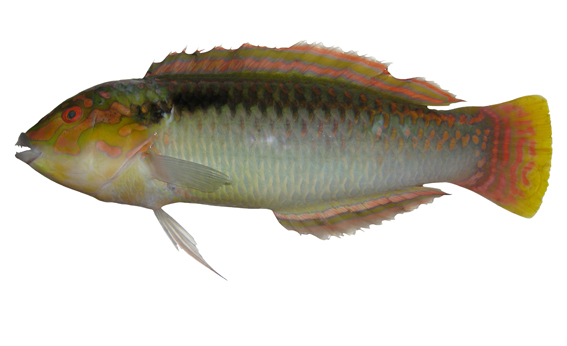fish: (14, 38, 553, 280)
